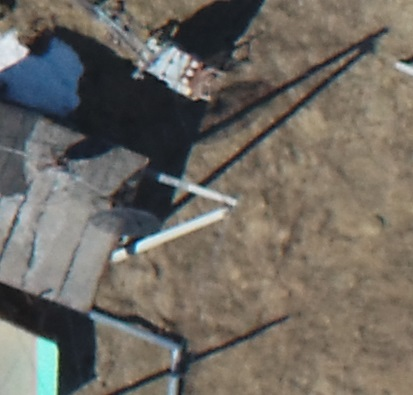opora: (110, 146, 245, 265)
